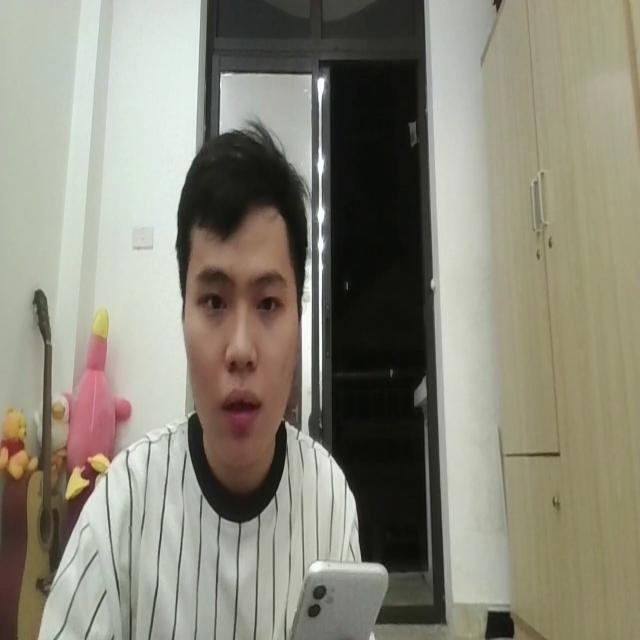phone: (287, 546, 386, 640)
student: (34, 126, 364, 640)
